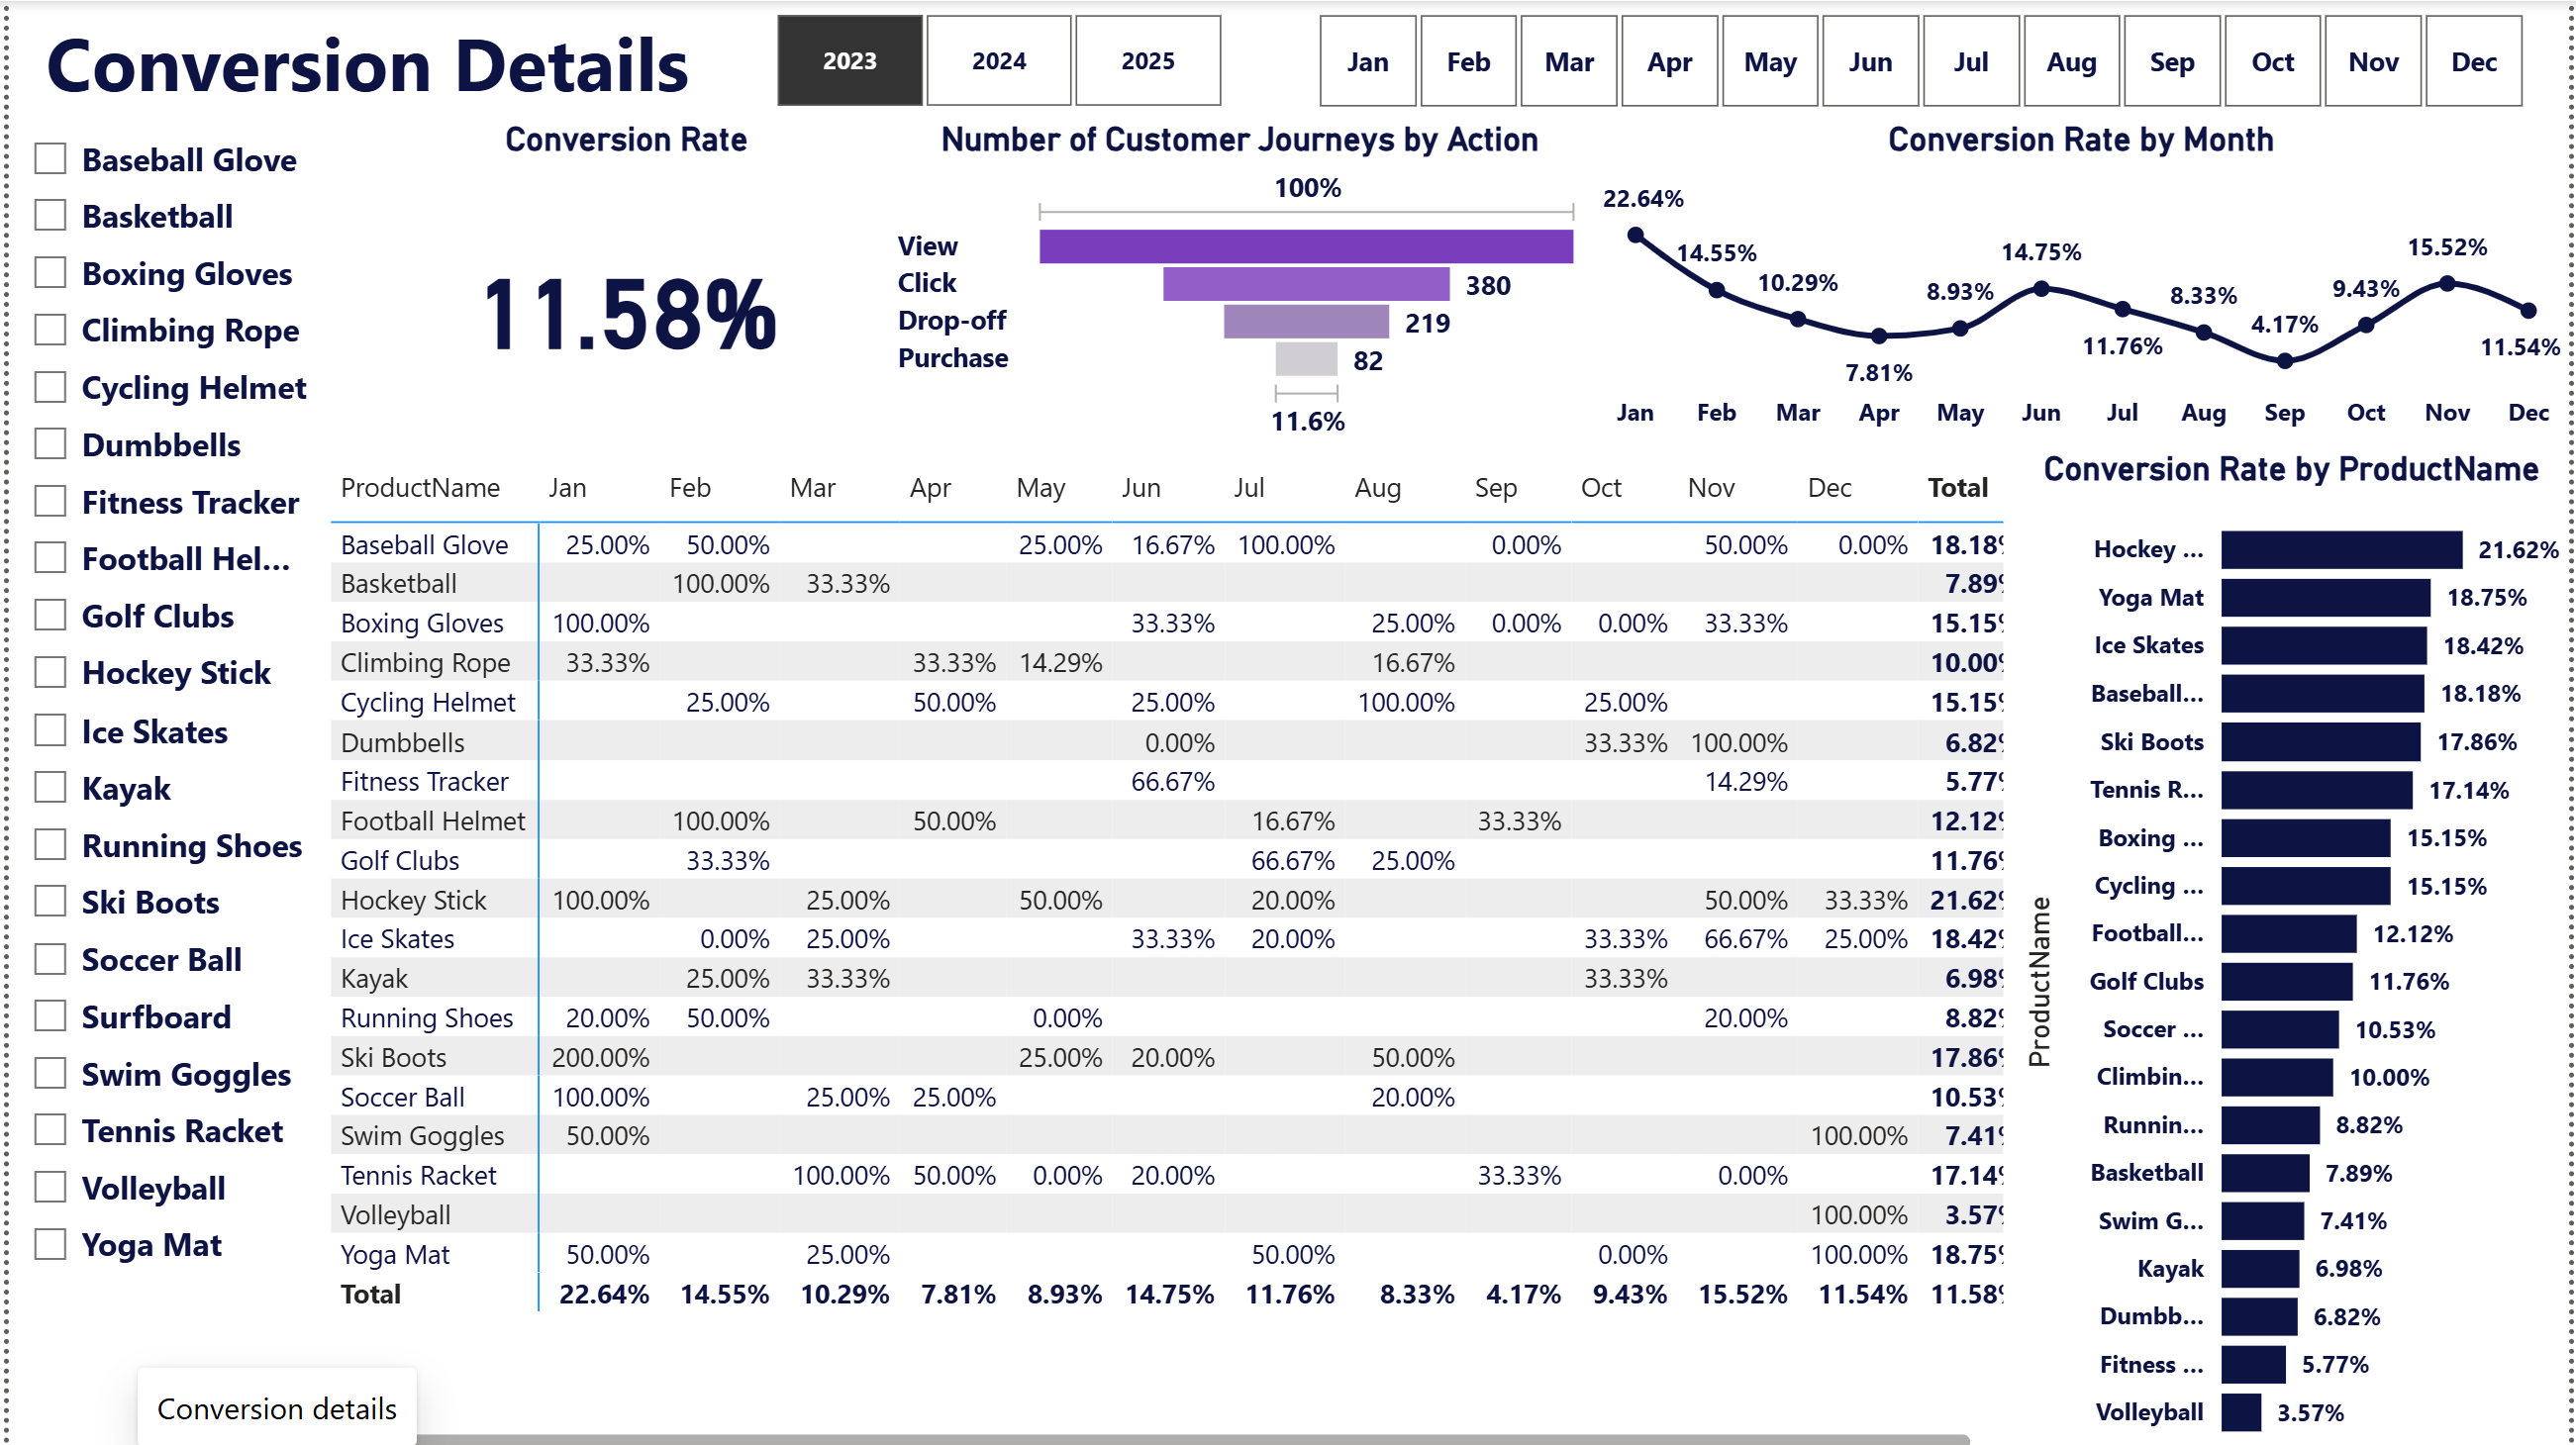

The page's visual inventory and layout, read from the dashboard file:
{"tool":"powerbi","page":{"name":"Conversion details","canvas":[1300,740],"ordinal":1},"visuals":[{"type":"slicer","fields":{"Values":["Dim_Products.ProductName"]},"box":[0,60.8,158.7,679.5],"z":0},{"type":"textbox","box":[0,0,364.3,60.3],"z":1000},{"type":"slicer","fields":{"Values":["Calendar.Year"]},"box":[364.3,0,275.1,60.3],"z":2000},{"type":"slicer","fields":{"Values":["Calendar.MonthNameShort"]},"box":[639.7,0,660.7,60.5],"z":3000},{"type":"lineChart","title":"Conversion Rate by Month","fields":{"Y":["Calculations.Conversion Rate"],"Category":["Calendar.MonthNameShort"]},"box":[803.9,60.5,496.4,166.7],"z":4000},{"type":"card","title":"Conversion Rate","fields":{"Values":["Calculations.Conversion Rate"]},"box":[182.8,60.5,263,166.7],"z":5000},{"type":"funnel","fields":{"Y":["Calculations.Number of Customer Journeys"],"Category":["Fact_CustomerJourney.Action"]},"box":[445.8,60.5,358.1,166.7],"z":6000},{"type":"pivotTable","fields":{"Rows":["Dim_Products.ProductName"],"Columns":["Calendar.MonthNameShort"],"Values":["Calculations.Conversion Rate"]},"box":[158.7,230.6,859.3,509.6],"z":7000},{"type":"clusteredBarChart","fields":{"Y":["Calculations.Conversion Rate"],"Category":["Dim_Products.ProductName"]},"box":[1018,226.9,282.7,513.3],"z":8000}]}

Visuals, with their boxes in screenshot pixels (x1, y1, x2, y2), scaled from the page's 1300x740 canvas onto the 2576x1445 screenshot:
slicer - Dim_Products.ProductName: [x1=0, y1=119, x2=315, y2=1444]
textbox: [x1=0, y1=0, x2=722, y2=118]
slicer - Calendar.Year: [x1=722, y1=0, x2=1267, y2=118]
slicer - Calendar.MonthNameShort: [x1=1267, y1=0, x2=2575, y2=118]
"Conversion Rate by Month" lineChart: [x1=1593, y1=118, x2=2575, y2=443]
"Conversion Rate" card: [x1=362, y1=118, x2=883, y2=443]
funnel - Calculations.Number of Customer Journeys x Fact_CustomerJourney.Action: [x1=883, y1=118, x2=1593, y2=443]
pivotTable - Dim_Products.ProductName x Calendar.MonthNameShort: [x1=315, y1=450, x2=2018, y2=1444]
clusteredBarChart - Calculations.Conversion Rate x Dim_Products.ProductName: [x1=2018, y1=443, x2=2575, y2=1444]
